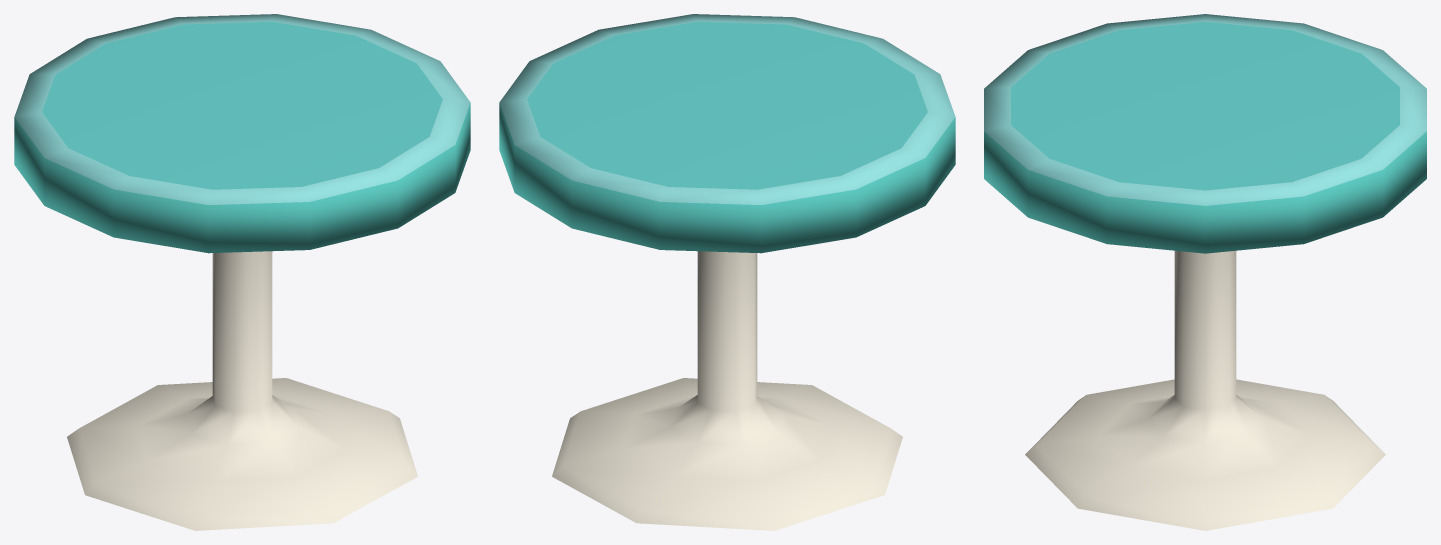
File: Store_Chair_01.FBX
3 views of the same model, side by side, from view 1: azimuth 30°, elevation 25°; view 2: azimuth 150°, elevation 25°; view 3: azimuth 270°, elevation 25° (orthographic).
Visible parts, largest first — view 1: Cylinder001; view 2: Cylinder001; view 3: Cylinder001.
Part boxes in pixels (bbox=[...]): Cylinder001: bbox=[14, 14, 470, 530]; Cylinder001: bbox=[499, 14, 955, 530]; Cylinder001: bbox=[984, 14, 1426, 530].
Size of the model in its own units: 15.05 by 12.9 by 14.67.
